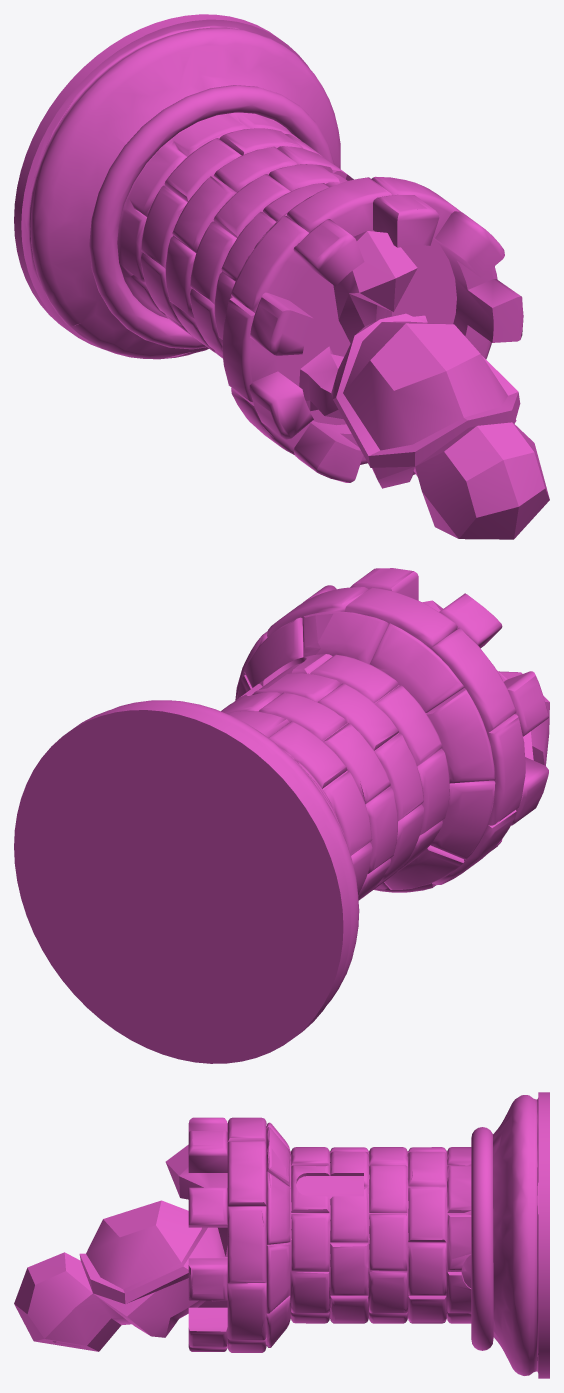
Rendered from Torre.obj.
3 renders of one model, top to bottom at view 1: azimuth 30°, elevation 25°; view 2: azimuth 150°, elevation 25°; view 3: azimuth 270°, elevation 25°, orthographic. The views are drawn at different scales.
Parts seen in each view (by area): view 1: Squirtle_Rook_003; view 2: Squirtle_Rook_003; view 3: Squirtle_Rook_003.
Boxes of the visible parts, <box> form: Squirtle_Rook_003: <box>14,14,549,539</box>; Squirtle_Rook_003: <box>14,568,549,1063</box>; Squirtle_Rook_003: <box>14,1092,549,1378</box>.
Bounding box in the file's own units: 29.79 × 29.79 × 55.71.
